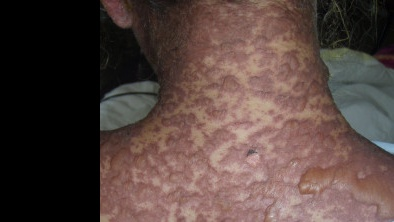SJS-TEN: (92, 0, 394, 221)
